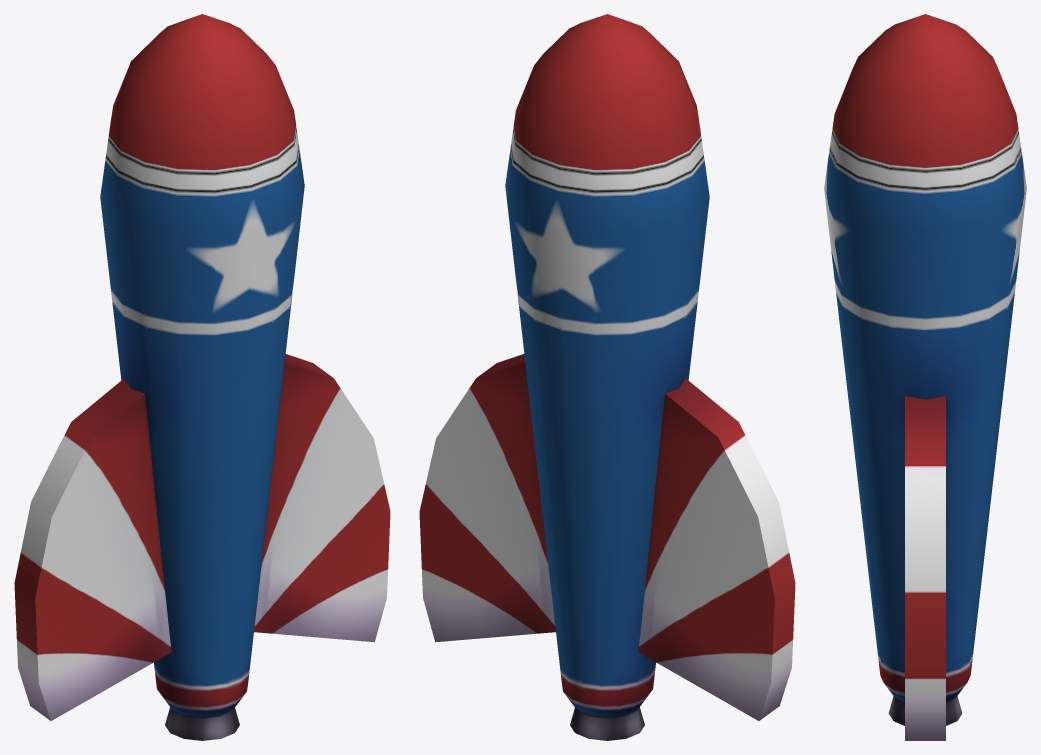
3 views of the same model, side by side, from view 1: azimuth 30°, elevation 25°; view 2: azimuth 150°, elevation 25°; view 3: azimuth 270°, elevation 25° (orthographic).
Parts seen in each view (by area): view 1: S005; view 2: S005; view 3: S005.
Part boxes in pixels (x1=…): S005: x1=14, y1=14, x2=390, y2=740; S005: x1=419, y1=14, x2=795, y2=740; S005: x1=824, y1=14, x2=1026, y2=740.
Bounding box in the file's own units: 14.38 × 27.51 × 7.23.
Materials: 1 (1 with a texture image).
